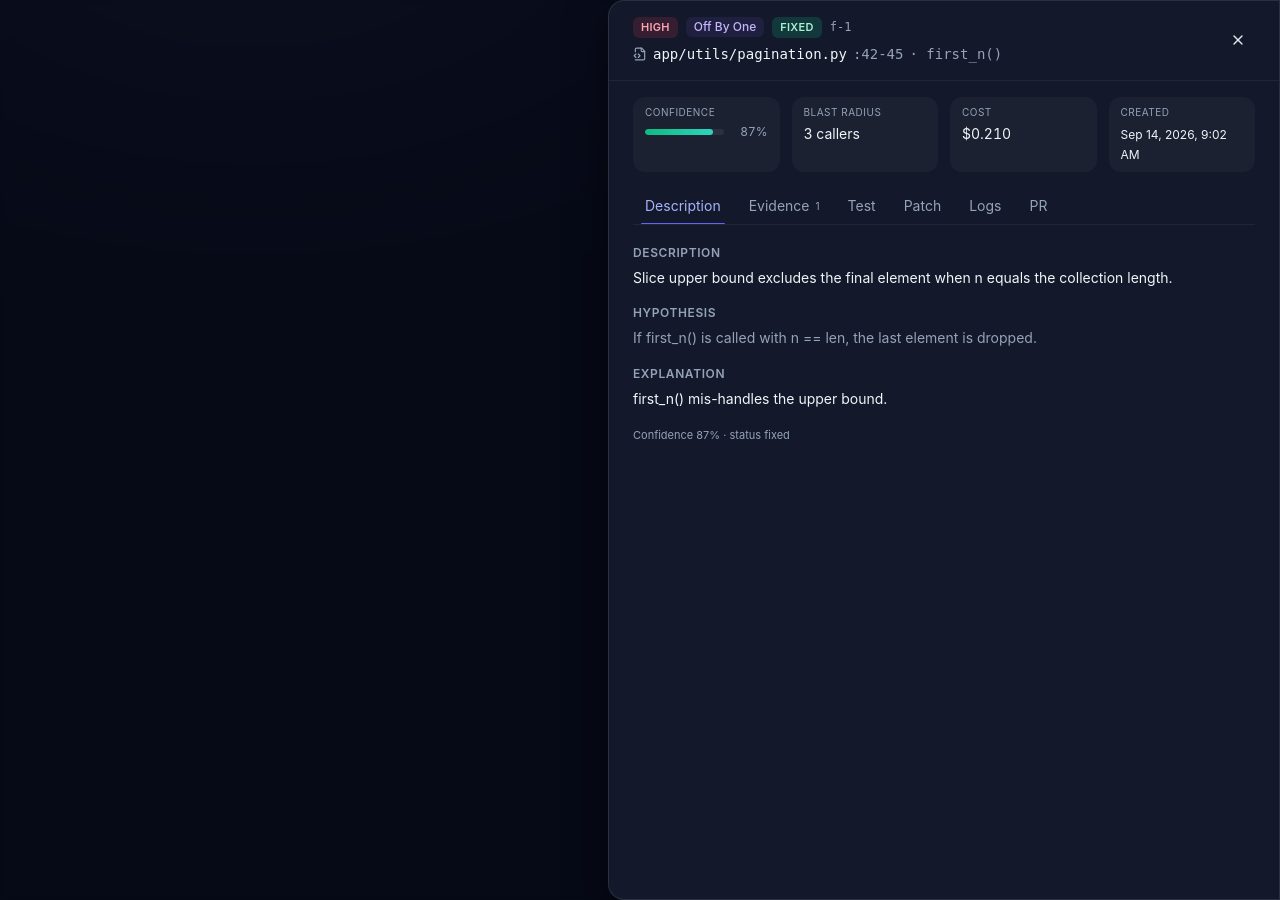
Test case: FindingDrawer › renders the unified diff on the Patch tab with +/- counts
The width and height of the screenshot is (1280, 900).
Click the tab "Patch" at [922, 206], box x1=892 y1=188 x2=953 y2=224
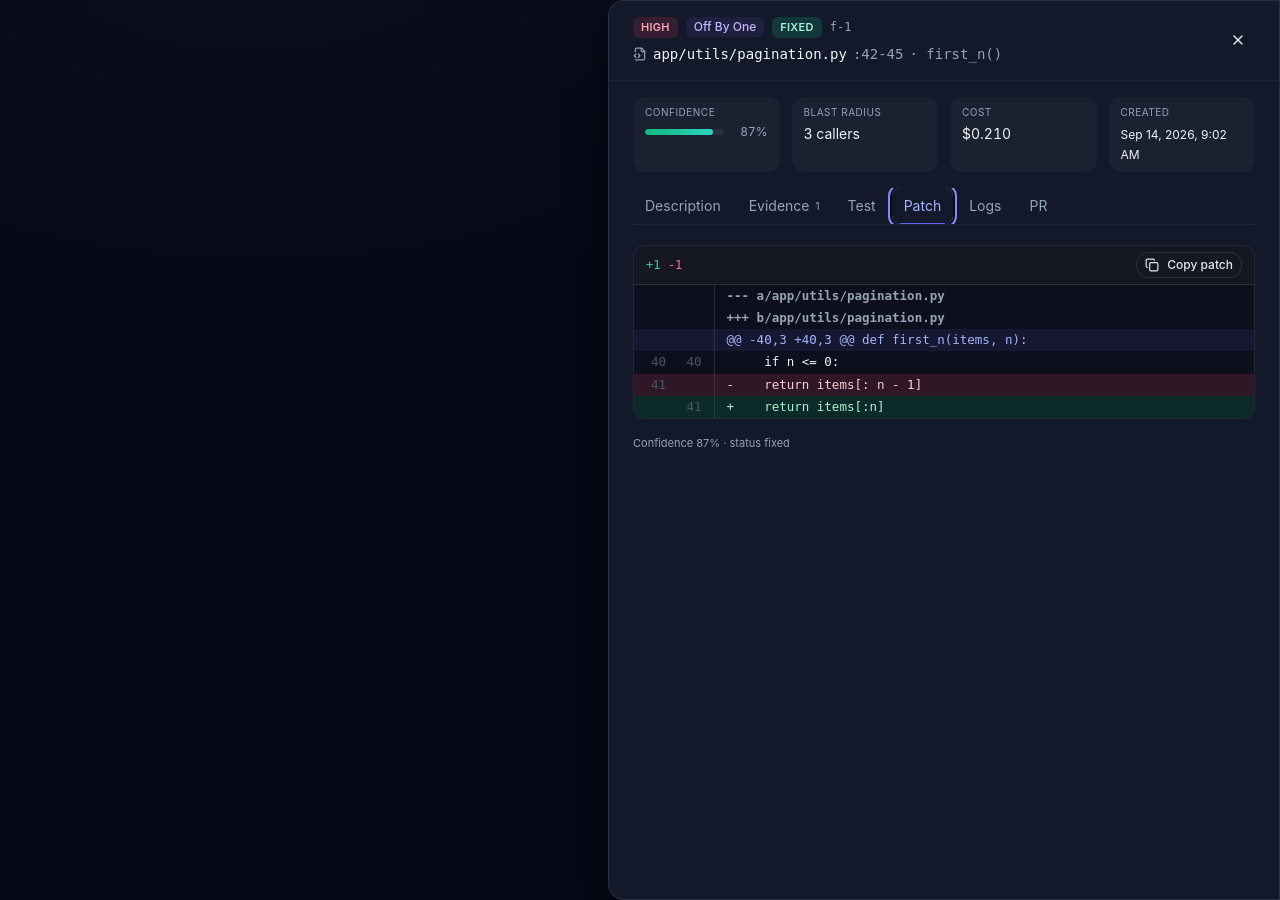
expect the text "+1" is shown: met, box x1=646 y1=258 x2=660 y2=272
expect the text "-1" is shown: met, box x1=668 y1=258 x2=682 y2=272
expect the text "+  return items[:n]" is shown: met, box x1=726 y1=399 x2=884 y2=414
